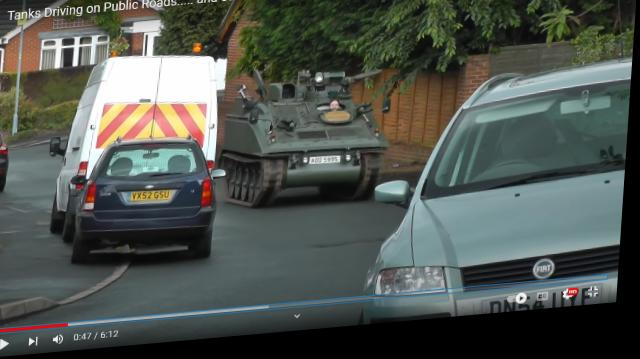tank: (228, 79, 383, 210)
